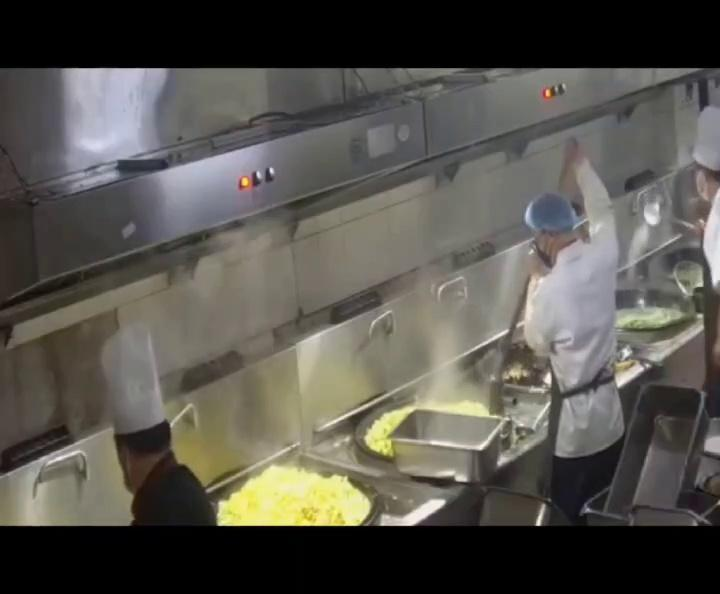gloves: (519, 188, 579, 235)
